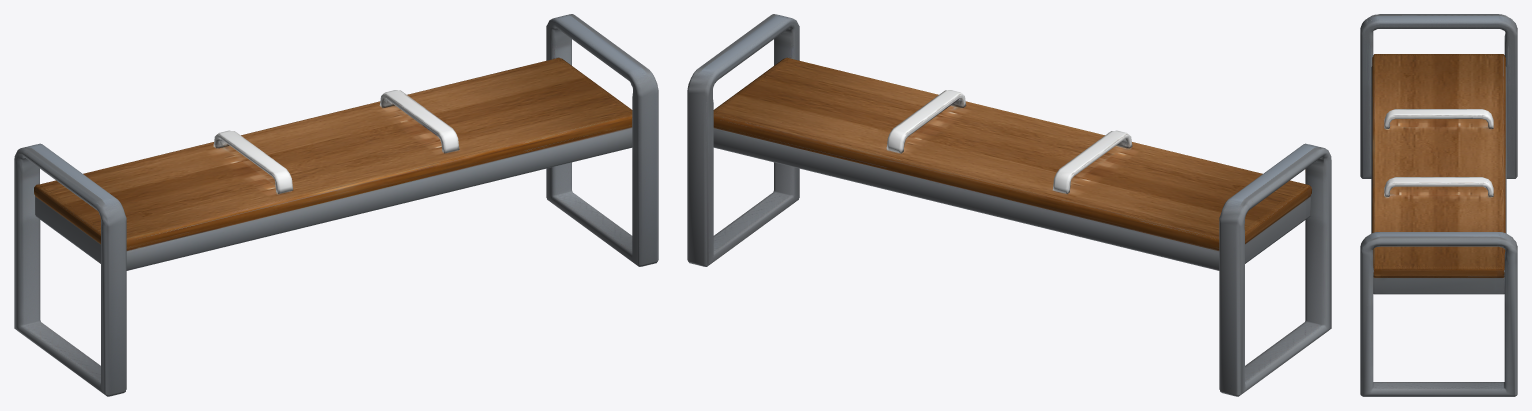
The model's file is Meshy_AI_Long_wooden_bench_wit_0517143027_texture.fbx.
3 renders of one model, left to right at view 1: azimuth 30°, elevation 25°; view 2: azimuth 150°, elevation 25°; view 3: azimuth 270°, elevation 25°, orthographic. The views are drawn at different scales.
Visible parts, largest first — view 1: Mesh_0; view 2: Mesh_0; view 3: Mesh_0.
Boxes of the visible parts, x1=… form: Mesh_0: x1=14, y1=14, x2=658, y2=396; Mesh_0: x1=687, y1=14, x2=1331, y2=396; Mesh_0: x1=1360, y1=14, x2=1517, y2=396.
Bounding box in the file's own units: 191 × 62.23 × 55.97.
Materials: 1 (1 with a texture image).
